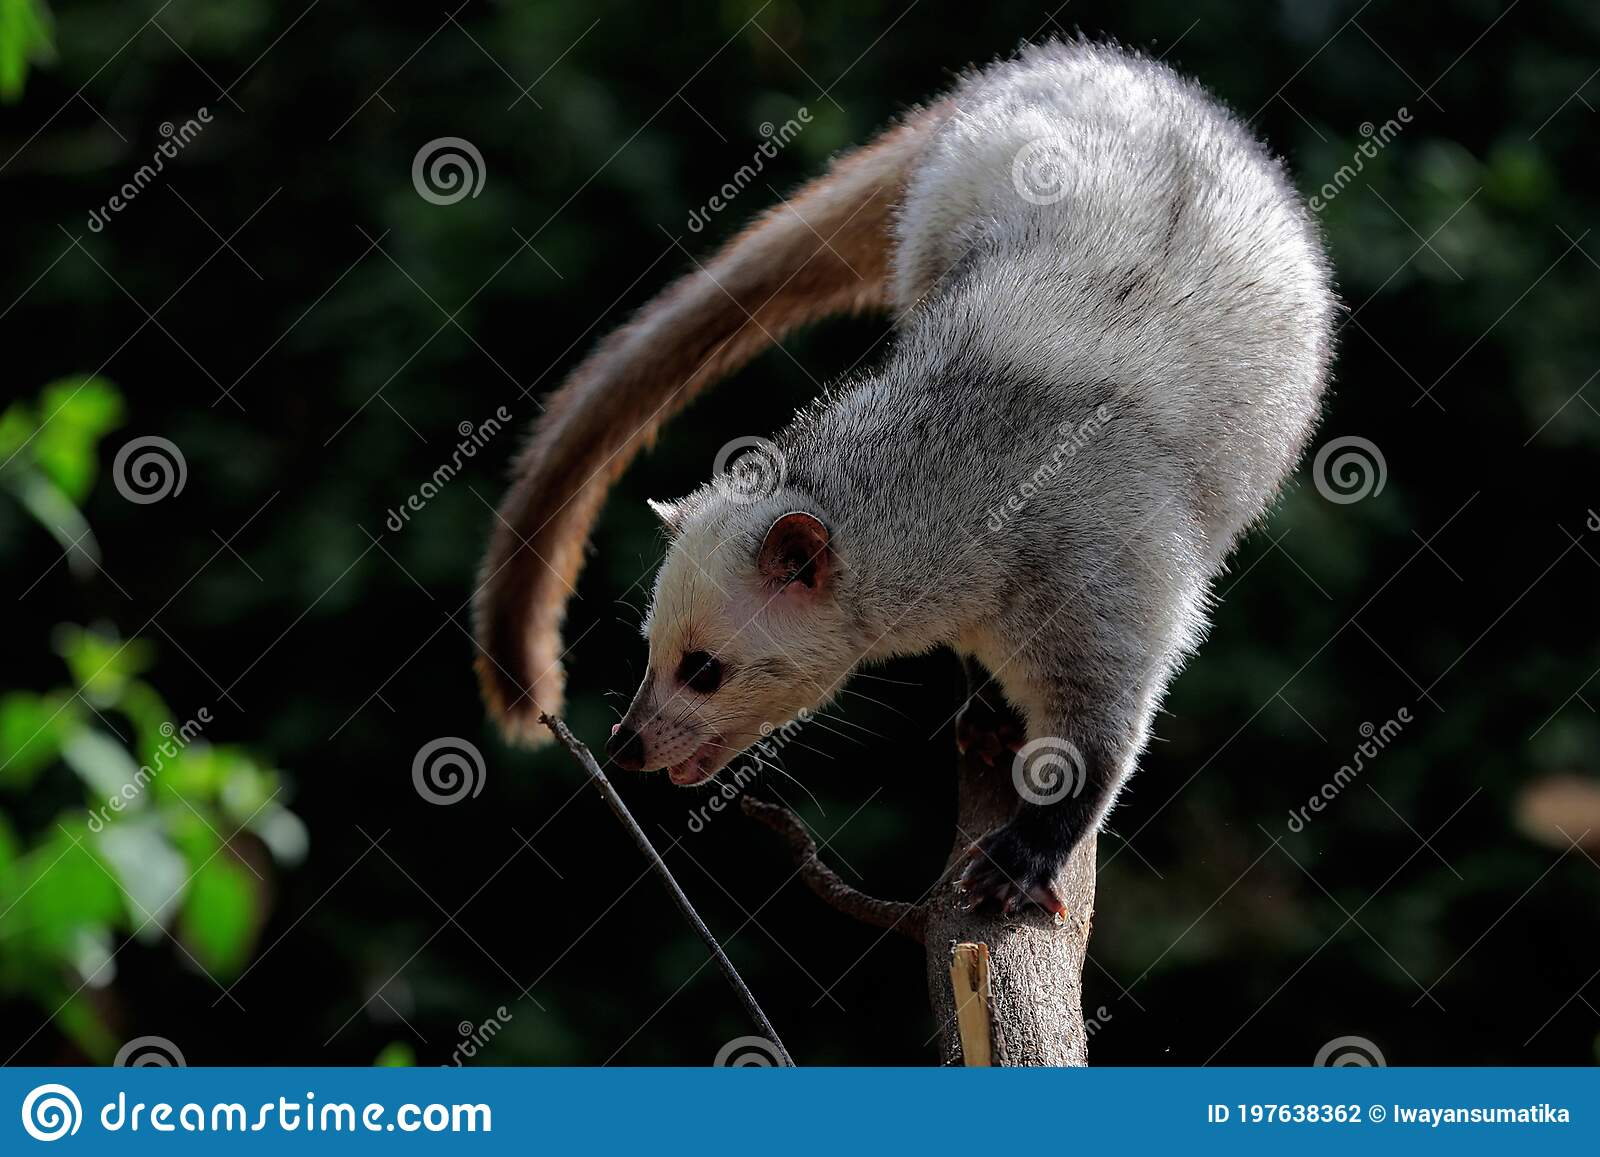Civet: (458, 36, 1366, 949)
